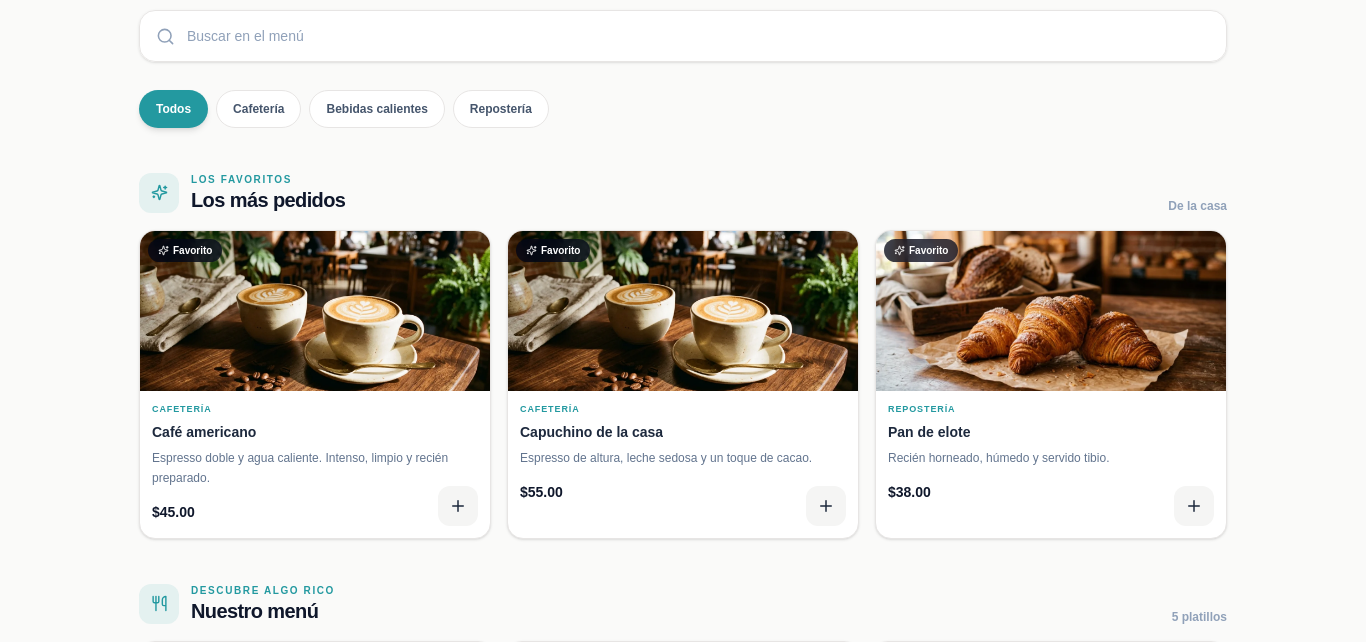
Test: Menú digital público por slug › permite consultar los detalles del platillo
The width and height of the screenshot is (1366, 642).
(page scrolled)
Click the button with aria-label "Ver detalles de Café americano". click: coordinates (315, 384)
box: [140,231,490,538]
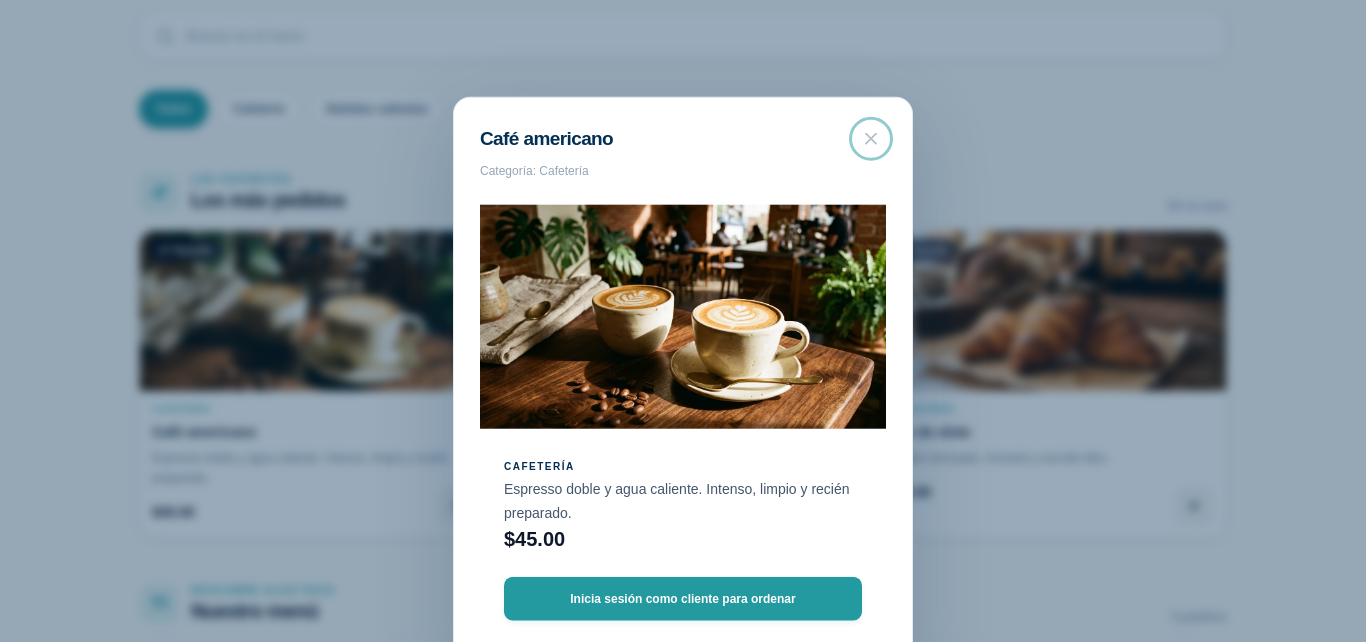
Now the text "Espresso doble y agua caliente. Intenso, limpio y recién preparado." is shown, box [504,476,862,524]
Now the text "$45.00" is shown, box [504,527,565,549]
Now the link "Inicia sesión como cliente para ordenar" is shown, box [504,576,862,620]
